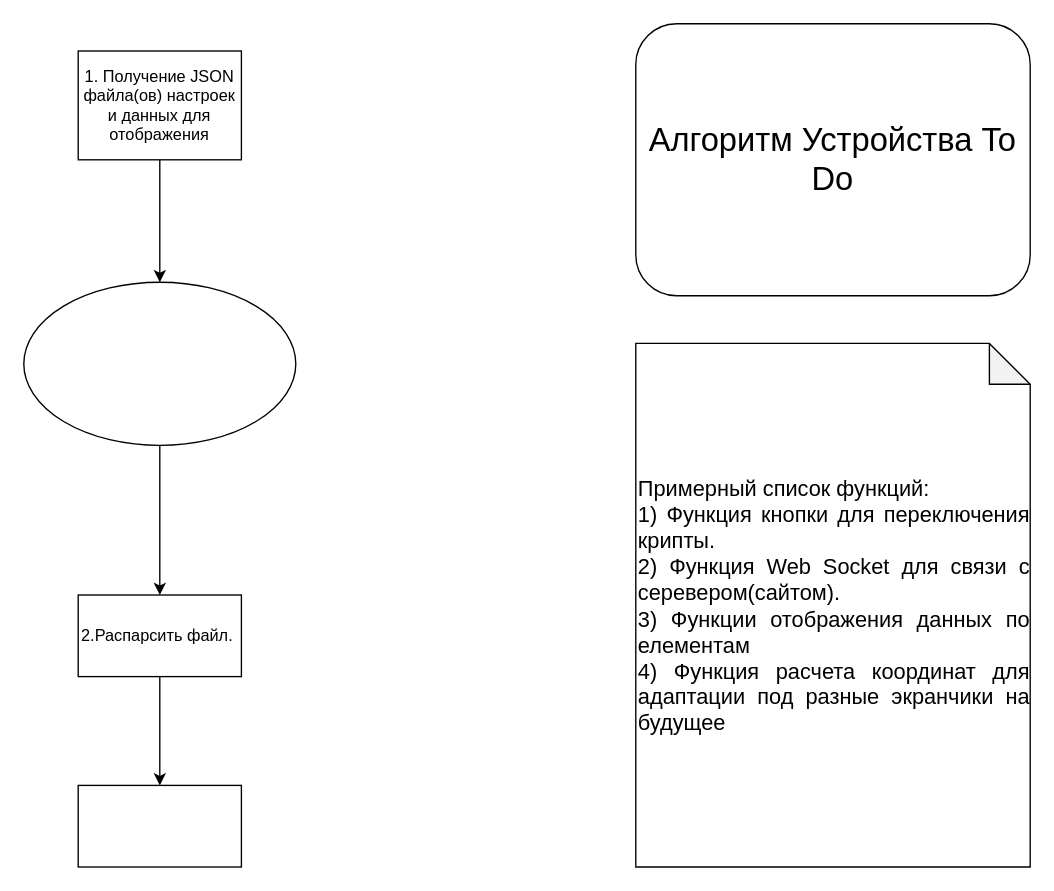
The diagram is 1054 pixels wide and 891 high, and some of its shapes have lost their labels. Each missing label, with the centre of its shape:
3. Каждый елемент отображать своей функцией: the point at 159,825
Для кастомизации все переменные и константы желательно брать из JSON: the point at 159,363
